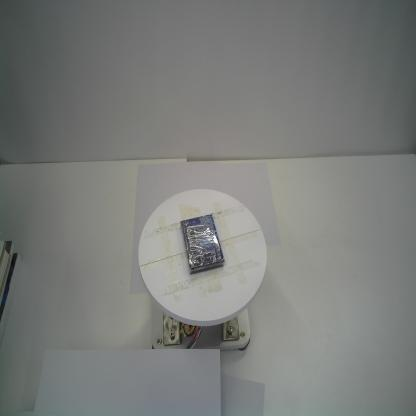Gum: (180, 212, 226, 275)
